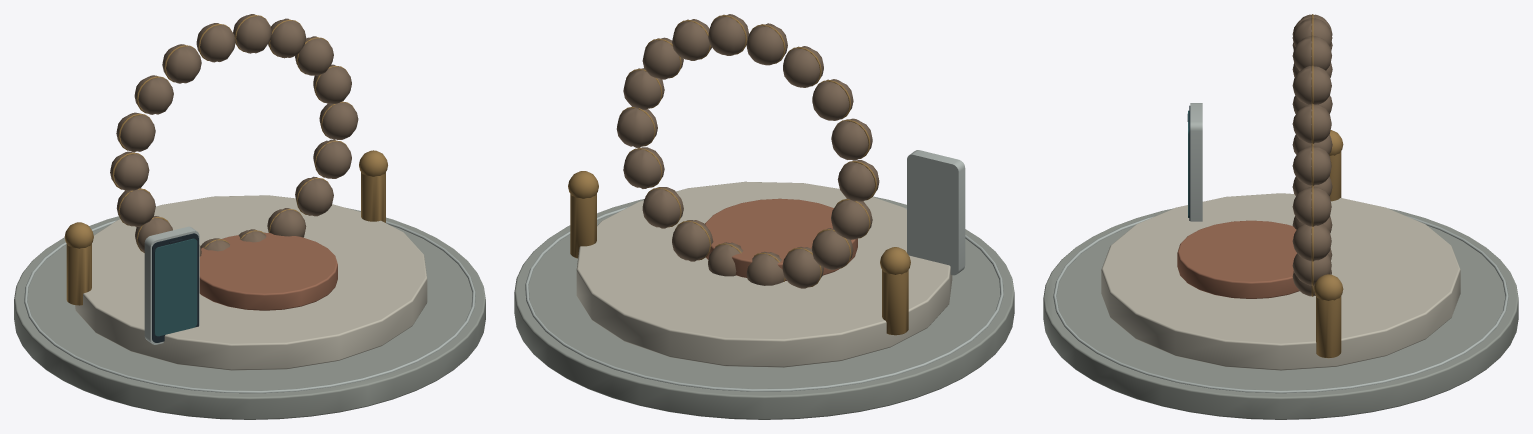
File: idea-3e586b84.glb
3 renders of one model, left to right at view 1: azimuth 30°, elevation 25°; view 2: azimuth 150°, elevation 25°; view 3: azimuth 270°, elevation 25°, orthographic. The views are drawn at different scales.
Visible parts, largest first — view 1: Digital Rudraksha Jaap Mala; view 2: Digital Rudraksha Jaap Mala; view 3: Digital Rudraksha Jaap Mala.
Boxes of the visible parts, x1,y1,x2,y2 form: Digital Rudraksha Jaap Mala: [14, 14, 485, 419]; Digital Rudraksha Jaap Mala: [514, 14, 1014, 419]; Digital Rudraksha Jaap Mala: [1043, 14, 1518, 419].
Bounding box in the file's own units: 4.5 × 3.04 × 4.5.
